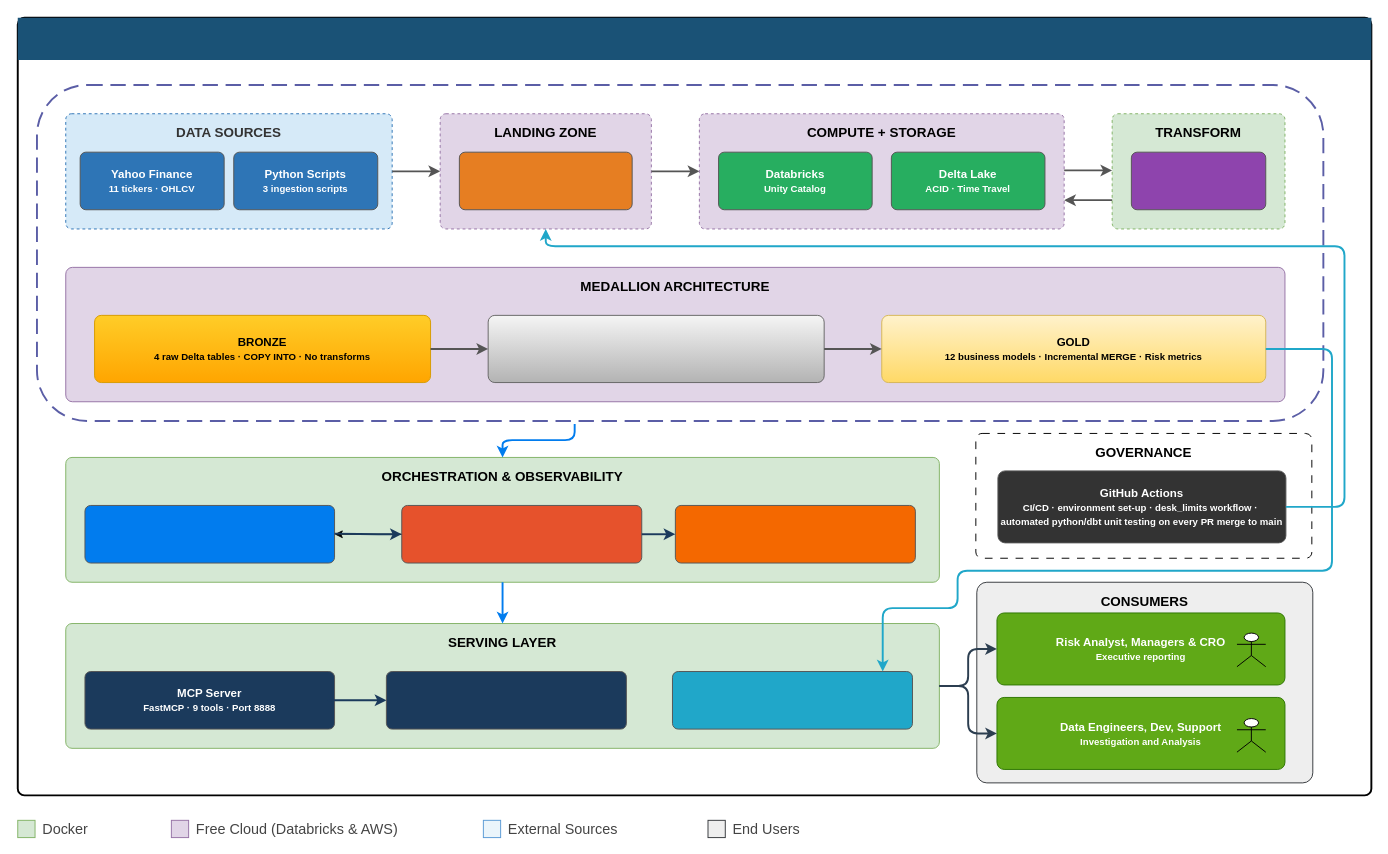
Some shapes in this 1388 by 854 pixel diagram are drawn without their labels. The shapes that lost their labels are listed below. From the top down, each one's centre as x and y in pixels, then its label:
the point at 694,38: MarketRisk Lakehouse Pipeline — System Architecture
the point at 545,180: AWS S3 Hive date partitions
the point at 1198,180: dbt Core 1.11 14 models · 2 seeds
the point at 655,348: SILVER 2 cleaned models · Normalize · FX→USD · Enriched/Transformed
the point at 209,533: Apache Airflow Daily DAG · 10 tasks · SLA
the point at 521,533: Prometheus Metrics scraping · StatsD
the point at 794,533: Grafana Pipeline health dashboards
the point at 505,700: Claude Desktop Agentic AI · Natural language
the point at 792,700: Apache Superset 7 risk dashboards · RBAC
